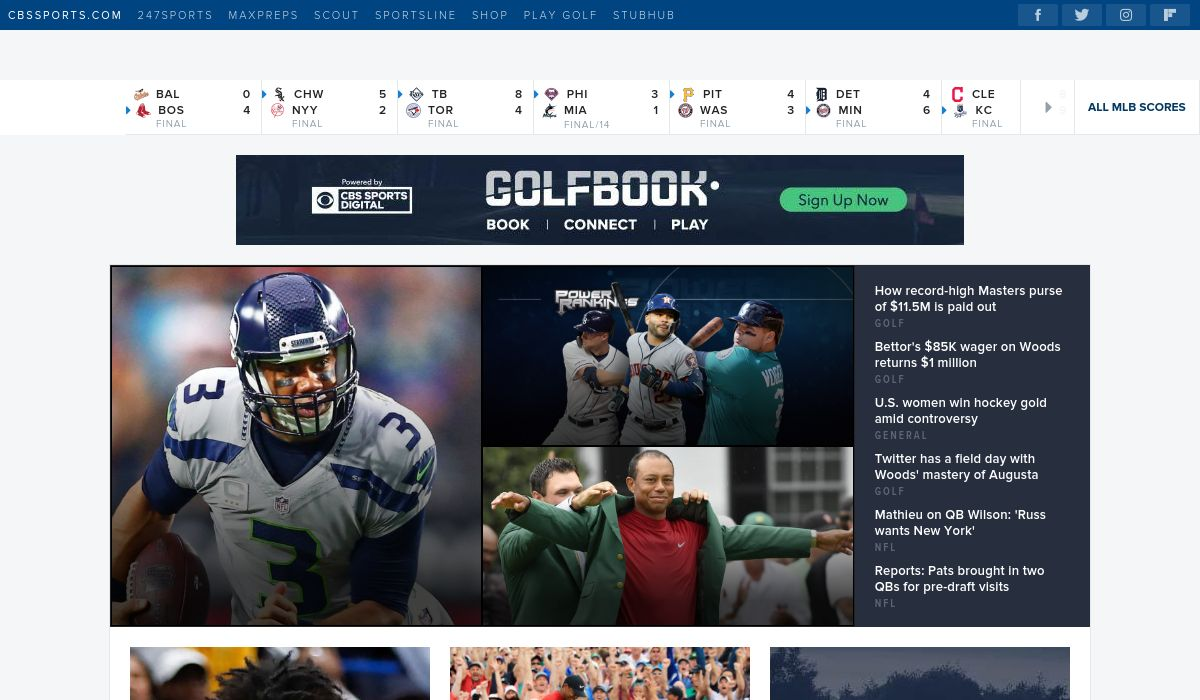menu: (1, 1, 1199, 31)
menu-button: (8, 6, 125, 24), (136, 5, 217, 25), (372, 6, 458, 24), (522, 6, 598, 24), (611, 6, 675, 25), (227, 7, 298, 24), (1020, 4, 1055, 27), (1064, 4, 1099, 27), (1107, 4, 1142, 27), (1150, 3, 1185, 26), (468, 6, 510, 24), (312, 9, 362, 23)
